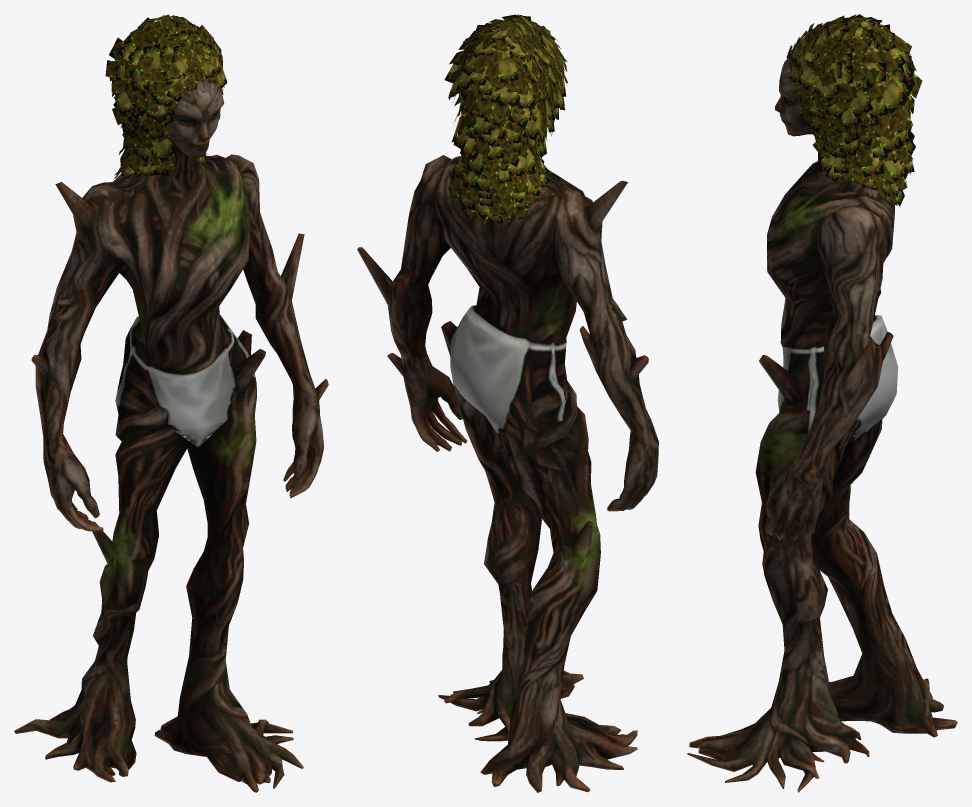
The model's file is 127-dryad.glb.
3 renders of one model, left to right at view 1: azimuth 30°, elevation 25°; view 2: azimuth 150°, elevation 25°; view 3: azimuth 270°, elevation 25°, orthographic.
Size of the model in its own units: 1.87 by 4.58 by 1.54.
1 material, 1 textured.
